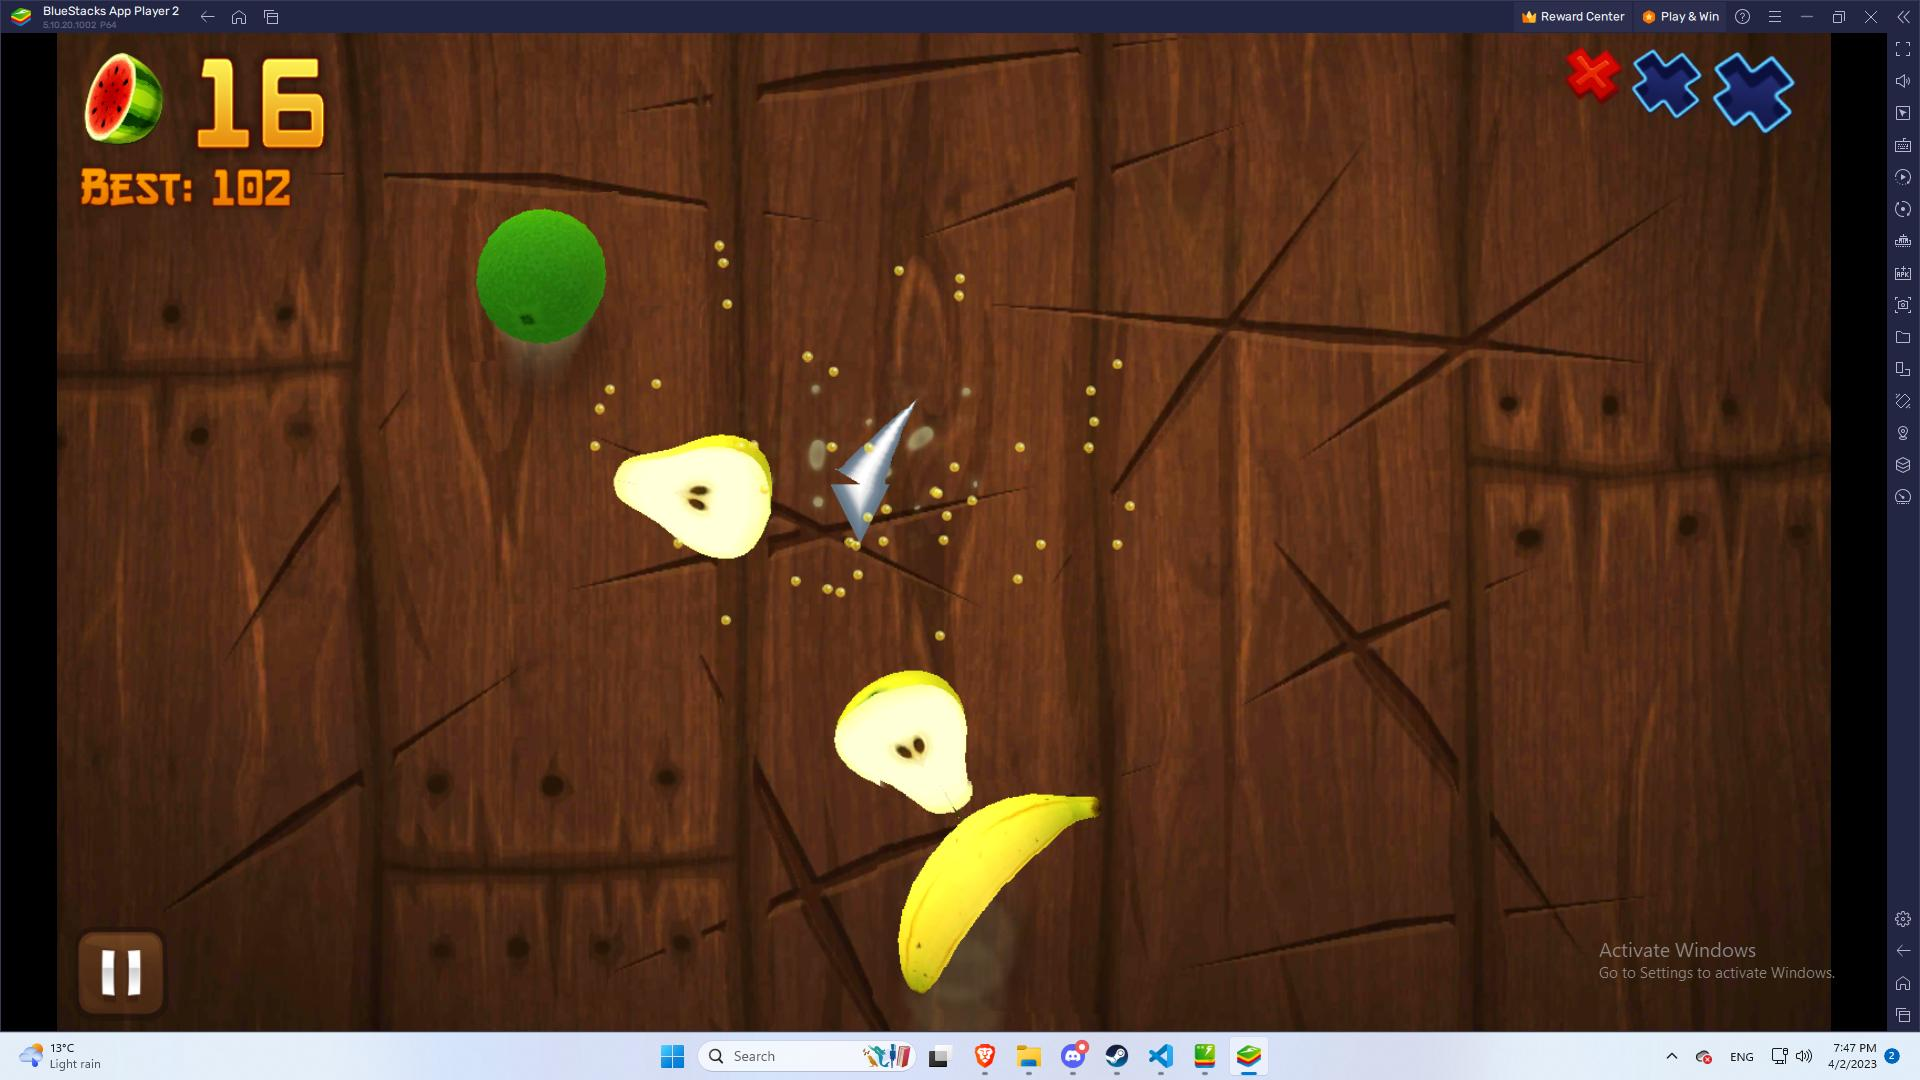fruit: (874, 783, 1112, 1007), (454, 195, 629, 360)
